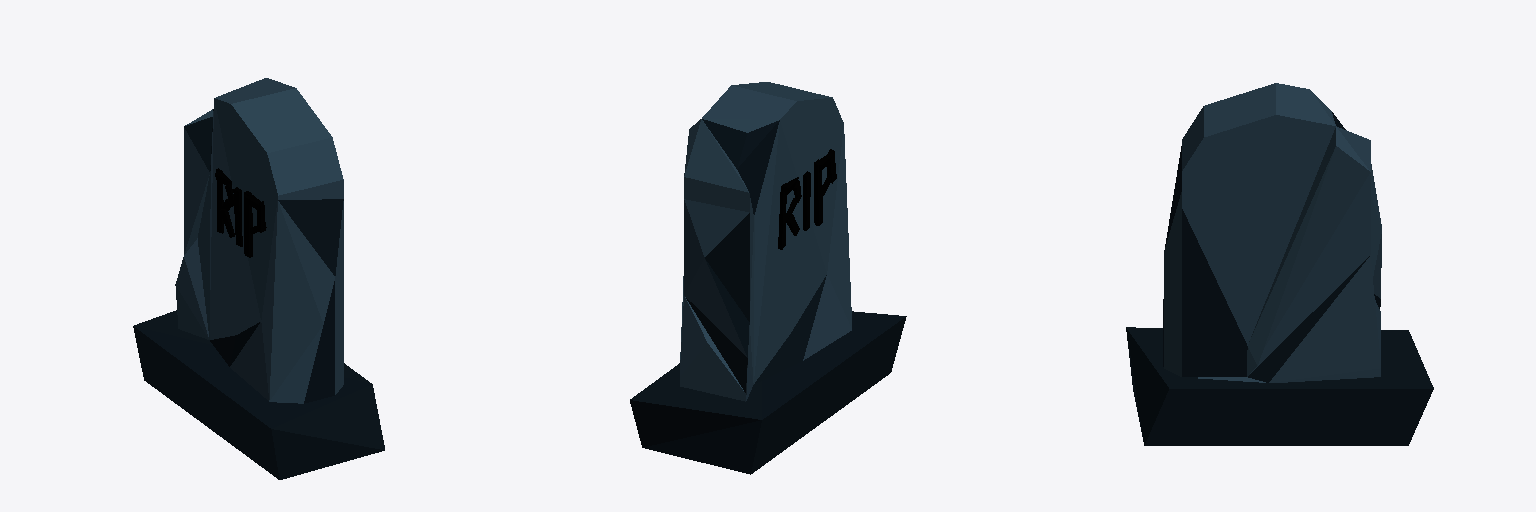
3 renders of one model, left to right at view 1: azimuth 30°, elevation 25°; view 2: azimuth 150°, elevation 25°; view 3: azimuth 270°, elevation 25°, orthographic.
Parts seen in each view (by area): view 1: group[number redacted], group[number redacted]; view 2: group[number redacted], group[number redacted]; view 3: group[number redacted], group[number redacted].
Boxes of the visible parts, x1,y1,x2,y2 form: group[number redacted]: [175, 78, 343, 403]; group[number redacted]: [133, 310, 384, 479]; group[number redacted]: [680, 82, 851, 401]; group[number redacted]: [630, 311, 906, 474]; group[number redacted]: [1163, 83, 1381, 382]; group[number redacted]: [1126, 327, 1433, 445].
Size of the model in its own units: 0.1131 by 0.2802 by 0.2445.